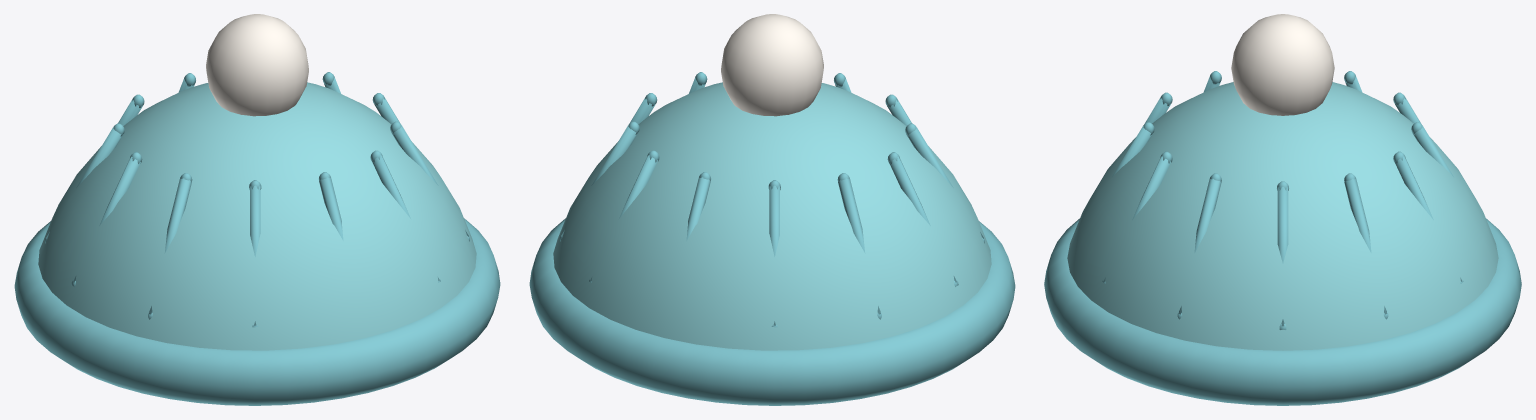
The model's file is beanie.glb.
3 views of the same model, side by side, from view 1: azimuth 30°, elevation 25°; view 2: azimuth 150°, elevation 25°; view 3: azimuth 270°, elevation 25° (orthographic).
Parts seen in each view (by area): view 1: Head; view 2: Head; view 3: Head.
Part boxes in pixels (box(x1,y1,x2,y2)): Head: box(14, 14, 500, 405); Head: box(529, 14, 1015, 405); Head: box(1044, 14, 1521, 405).
Bounding box in the file's own units: 0.3173 × 0.2105 × 0.3116.
